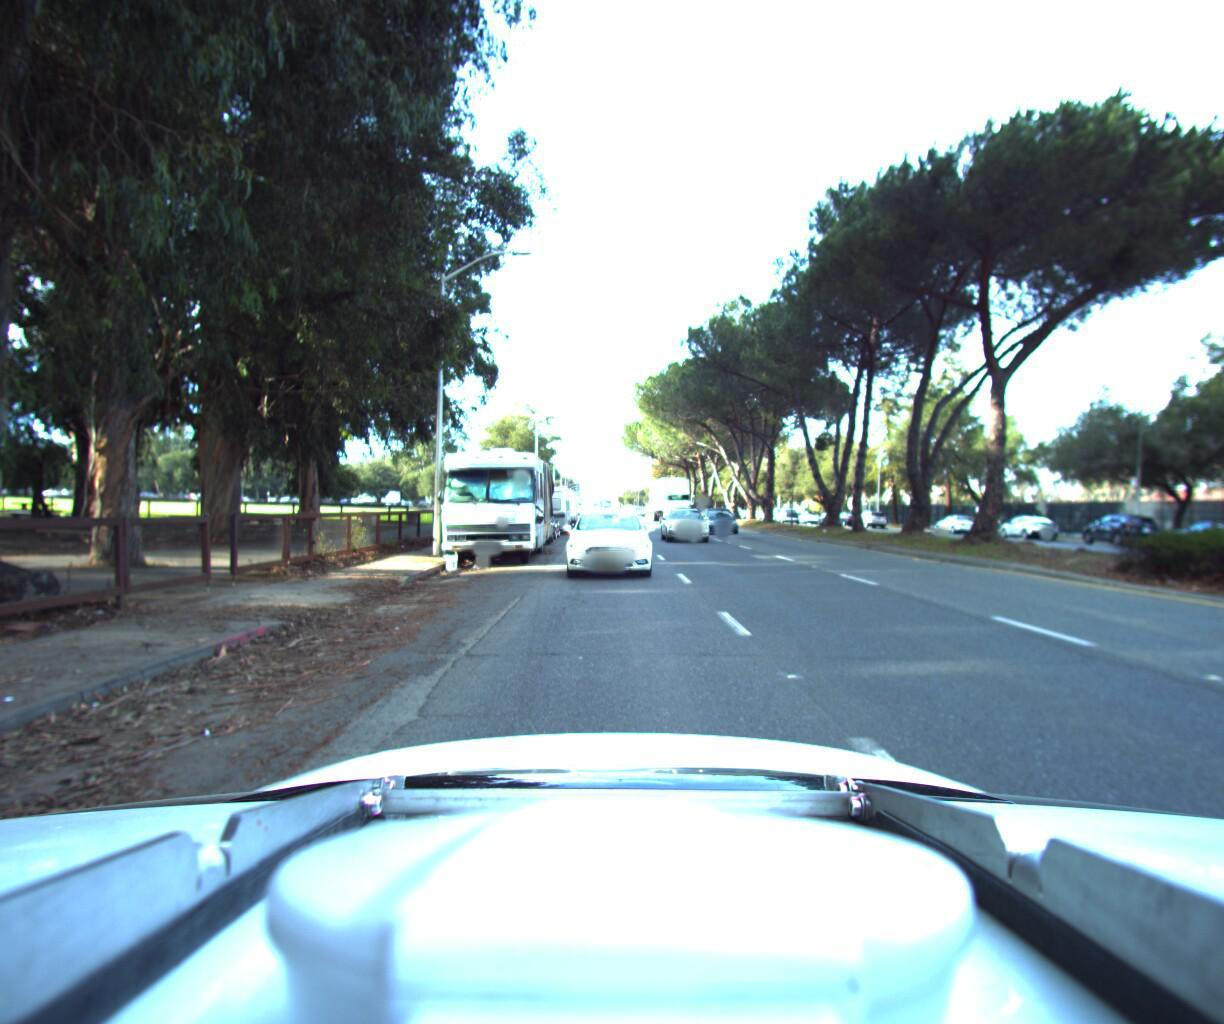car: (560, 499, 653, 576), (1075, 505, 1165, 543), (660, 499, 714, 538), (994, 506, 1061, 536), (698, 501, 745, 533), (931, 505, 983, 530), (853, 503, 888, 522), (770, 501, 796, 517)
other_vehicle: (425, 437, 560, 567), (511, 474, 572, 530), (535, 479, 580, 522)
truck: (642, 469, 696, 519)
